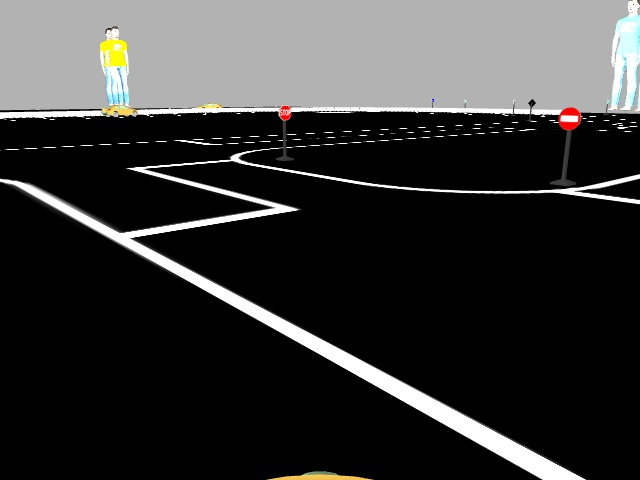NoEntry: (558, 108, 582, 132)
Stop: (277, 105, 292, 121)
